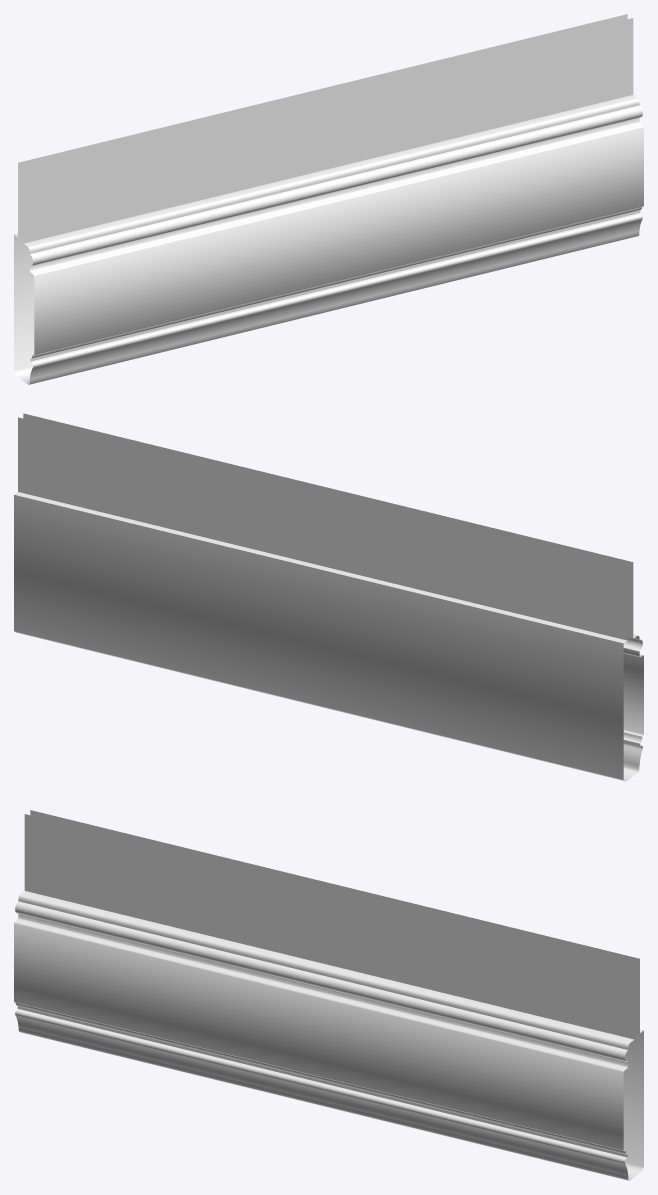
File: original-52.obj
The picture shows the model from 3 angles, top to bottom: view 1: azimuth 30°, elevation 25°; view 2: azimuth 150°, elevation 25°; view 3: azimuth 330°, elevation 25°; orthographic projection.
Visible parts, largest first — view 1: RT_11_BC1/RT_11_BC/mesh38/mesh38-geometry#mesh38-geometry; view 2: RT_11_BC1/RT_11_BC/mesh38/mesh38-geometry#mesh38-geometry; view 3: RT_11_BC1/RT_11_BC/mesh38/mesh38-geometry#mesh38-geometry.
Boxes of the visible parts, left/top/right/bottom form: RT_11_BC1/RT_11_BC/mesh38/mesh38-geometry#mesh38-geometry: left=14, top=14, right=643, bottom=384; RT_11_BC1/RT_11_BC/mesh38/mesh38-geometry#mesh38-geometry: left=14, top=413, right=643, bottom=781; RT_11_BC1/RT_11_BC/mesh38/mesh38-geometry#mesh38-geometry: left=14, top=810, right=643, bottom=1180.
Size of the model in its own units: 0.589 by 0.1979 by 0.0338.
